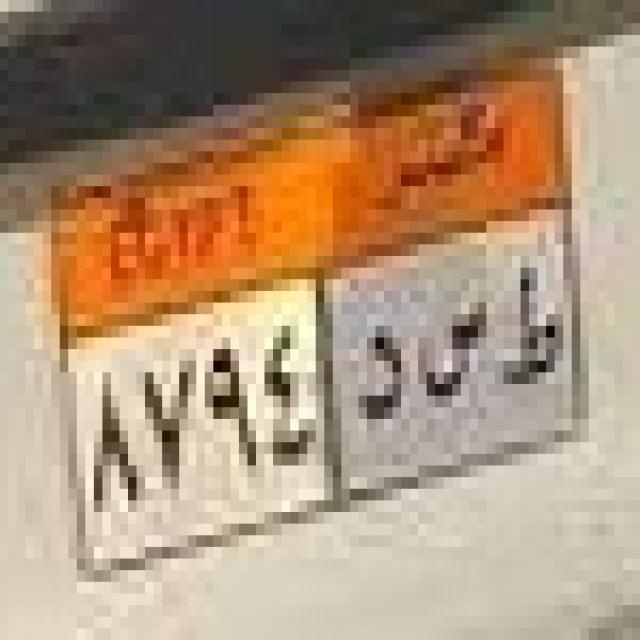4: (258, 312, 318, 476)
7: (146, 343, 203, 504)
8: (87, 354, 145, 524)
9: (201, 323, 262, 481)
Seen: (424, 280, 487, 422)
Taa: (498, 260, 568, 404)
daal: (356, 306, 412, 436)
